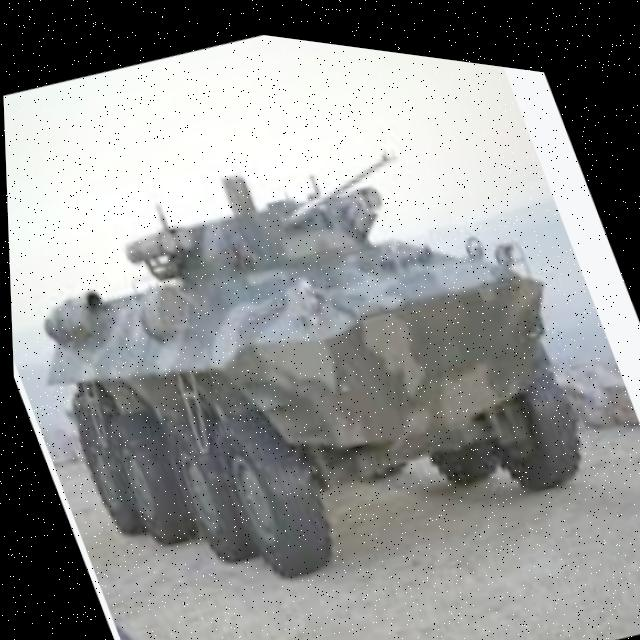MIL_APC: (1, 51, 629, 640)
